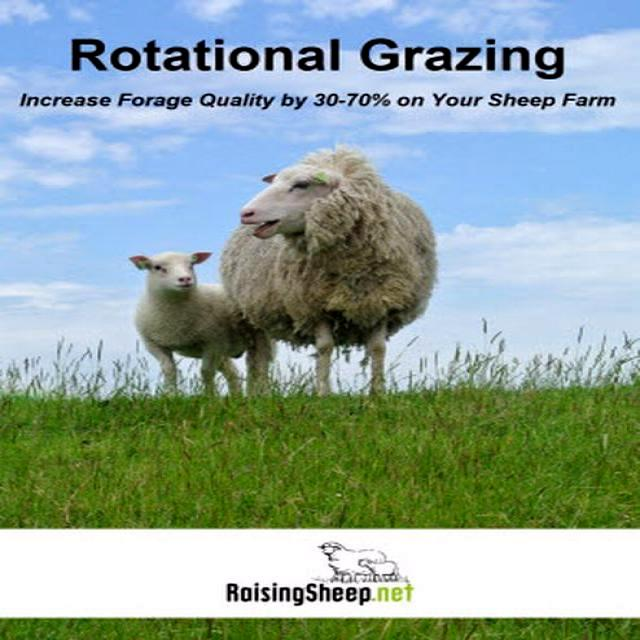sheep: (206, 144, 434, 409)
